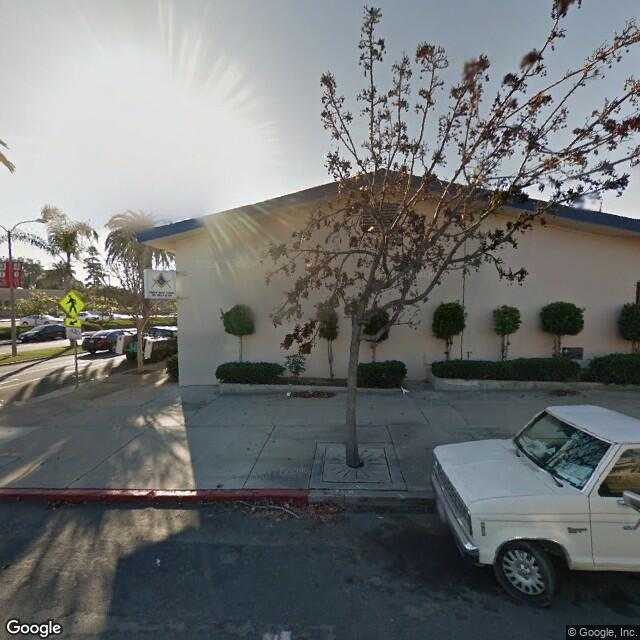litter: (149, 553, 175, 579), (278, 384, 303, 397), (394, 383, 413, 396)
